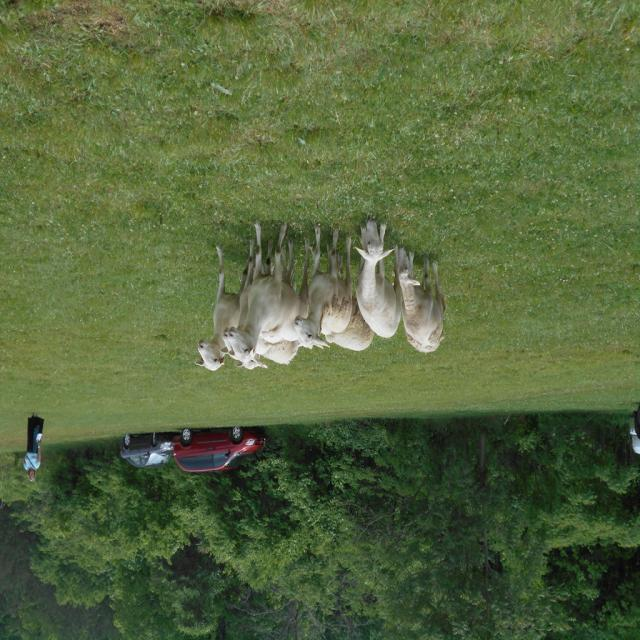Goat: (196, 219, 447, 374), (354, 216, 403, 340), (395, 246, 447, 354)
